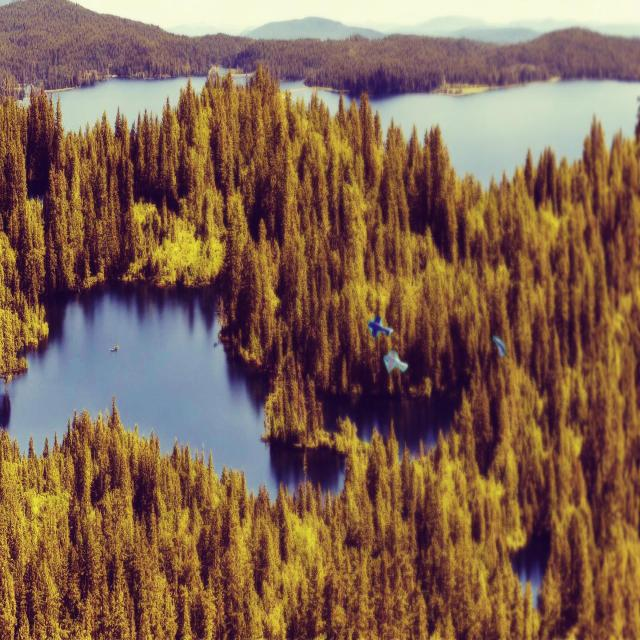airplane: (367, 314, 394, 340), (383, 348, 408, 374), (492, 334, 508, 359)
